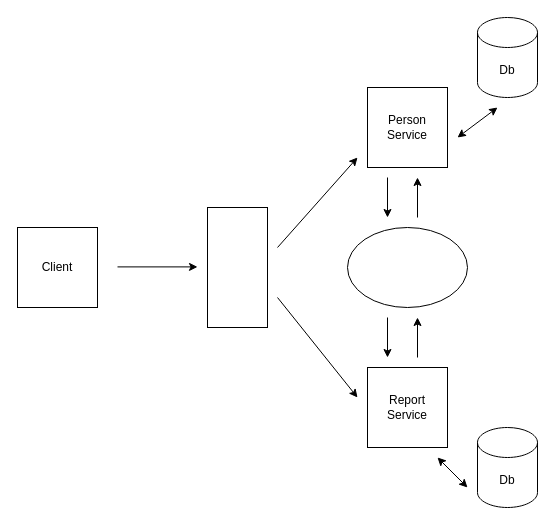
Image size: 555x525. Some labels were removed from this diagram. Here are the shapes that lost their labels. From the top down, the box of each, then its label:
(206, 206, 268, 328): Api Gateway
(346, 226, 468, 308): RabbitMQ
